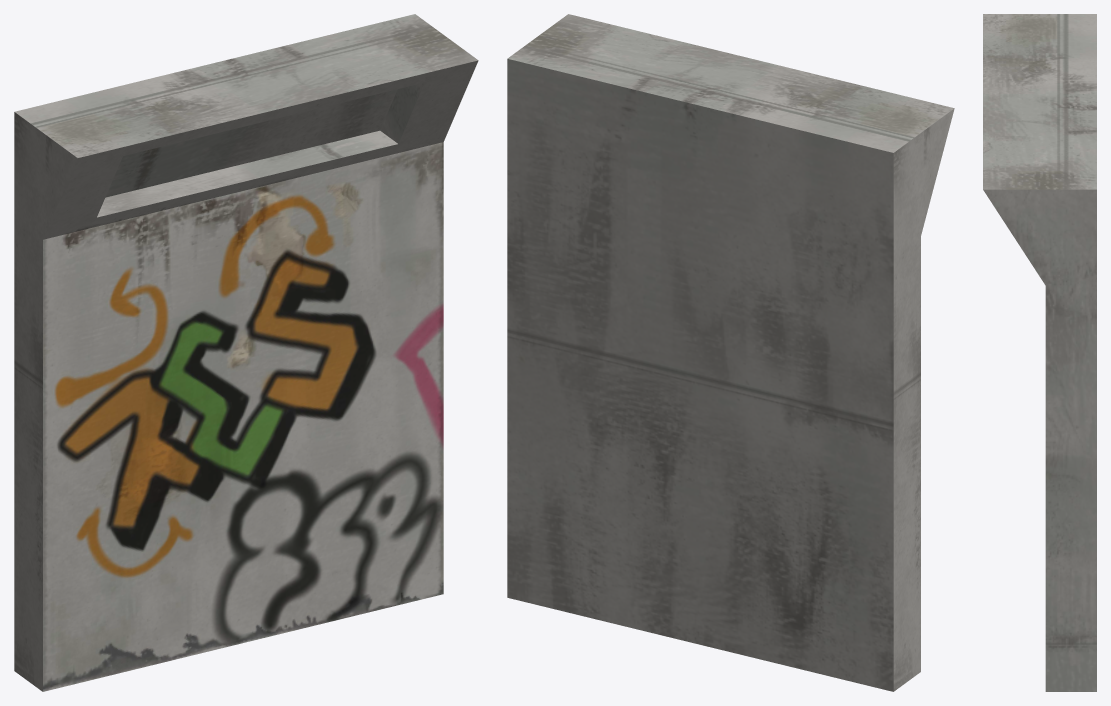
Rendered from wall_02.fbx.
The picture shows the model from 3 angles, left to right: view 1: azimuth 30°, elevation 25°; view 2: azimuth 150°, elevation 25°; view 3: azimuth 270°, elevation 25°; orthographic projection. The views are drawn at different scales.
Parts seen in each view (by area): view 1: wall_004; view 2: wall_004; view 3: wall_004.
Part boxes in pixels (x1,y1,x2,y2): wall_004: (14, 14, 478, 691); wall_004: (507, 14, 954, 691); wall_004: (983, 14, 1096, 691).
Size of the model in its own units: 300 by 400 by 82.21.
